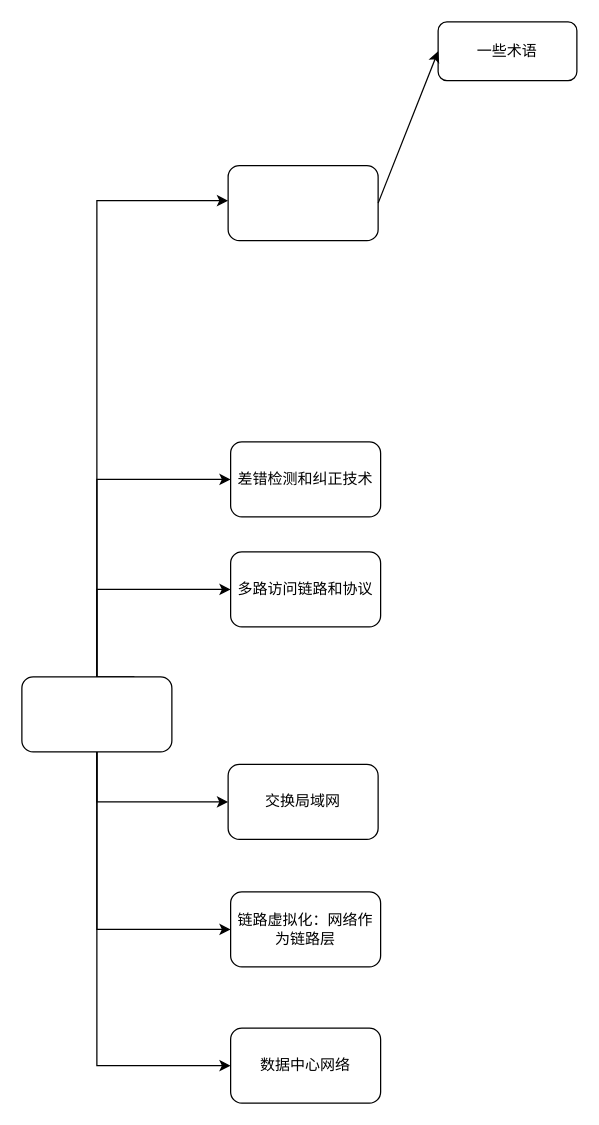
Image size: 599x1125. Some labels were removed from this diagram. The shapes that lost their labels are listed below. From the top down, each one's centre as x and y in pixels, then its label:
At [302,202]: "链路层概述".
At [96,714]: "Link Layer".
